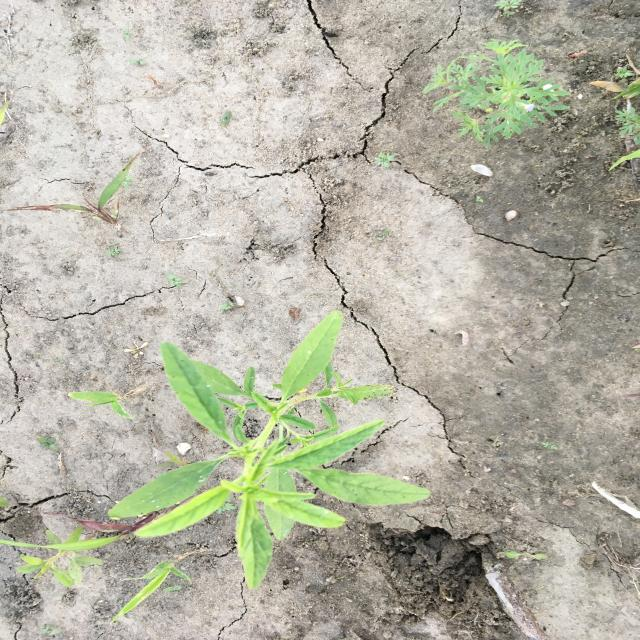Ragweed: (421, 37, 574, 149), (612, 104, 638, 140)
Waterhemp: (104, 310, 432, 594)
